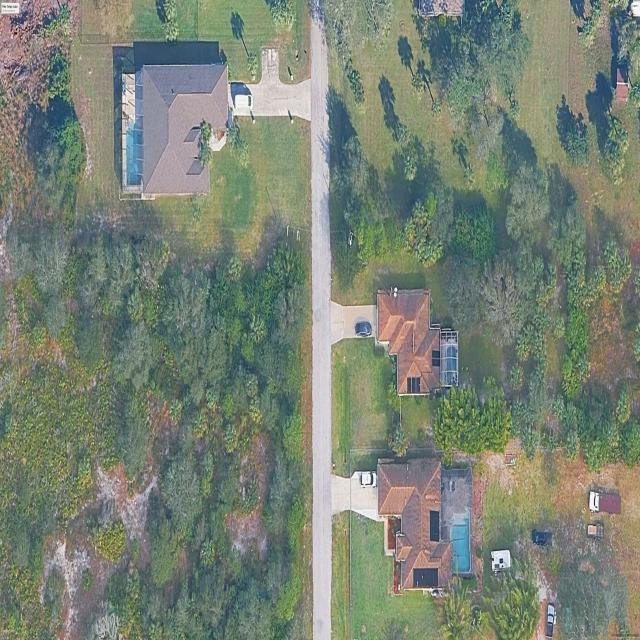Home: (136, 64, 228, 195), (377, 458, 451, 590), (377, 287, 444, 395)
